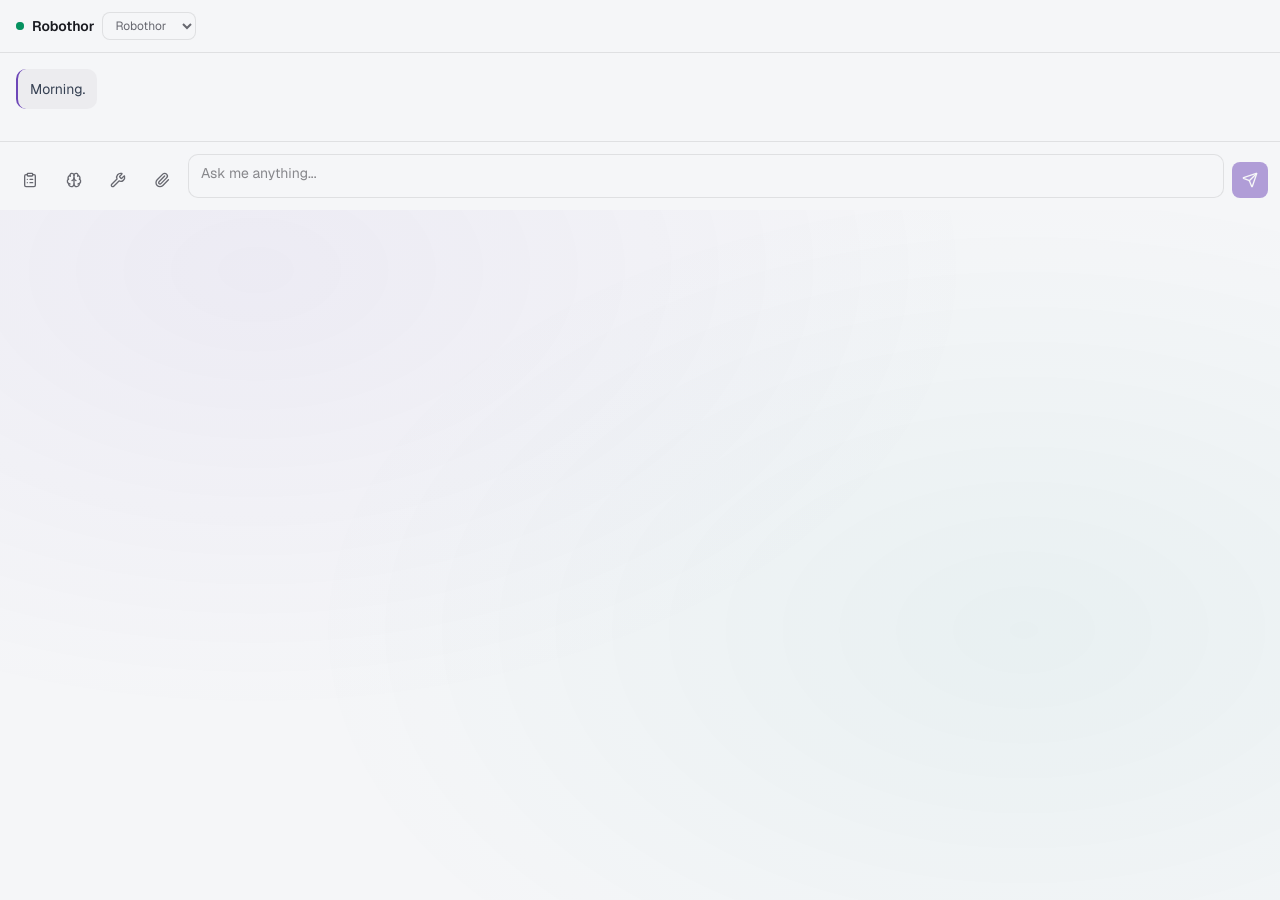
ChatPanel — choosing which agent to talk to › reloads history for the agent that was switched to
The width and height of the screenshot is (1280, 900).
Expected: the text "Morning." is shown, [30,77,85,101]
Select "Scheduler" in the dropdown with test id "agent-switcher". click: [149, 26]
box: [102,12,196,40]
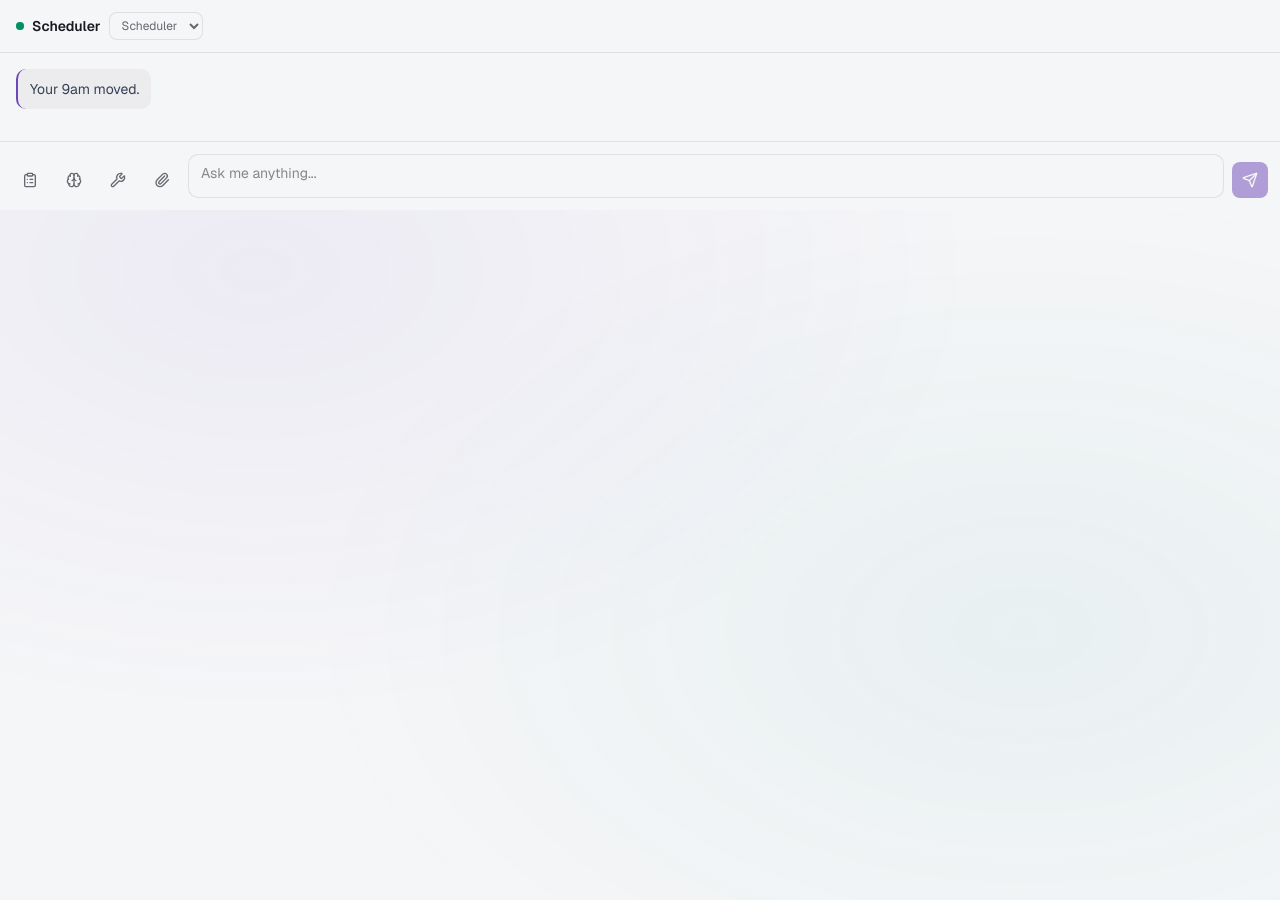
Expected: the text "Your 9am moved." is shown, [30,77,139,101]
Expected: the text "Morning." is gone
